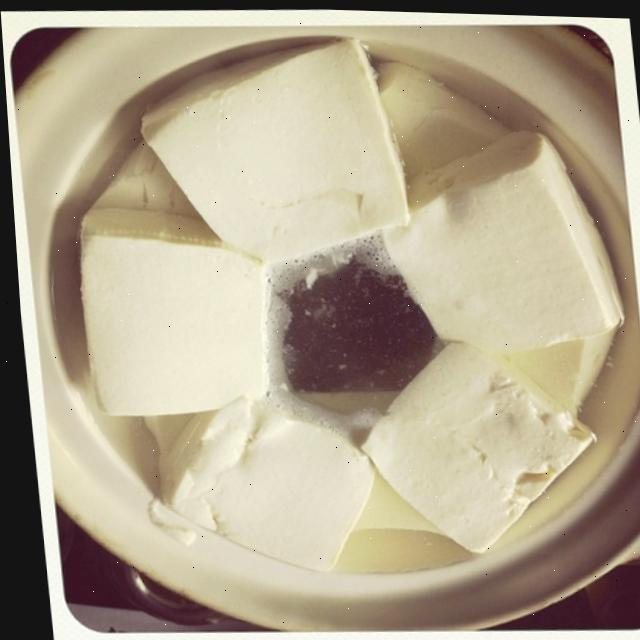豆腐料理: (36, 19, 623, 596)
